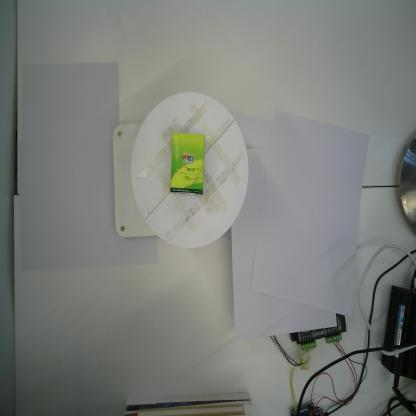Tissue: (170, 132, 206, 196)
